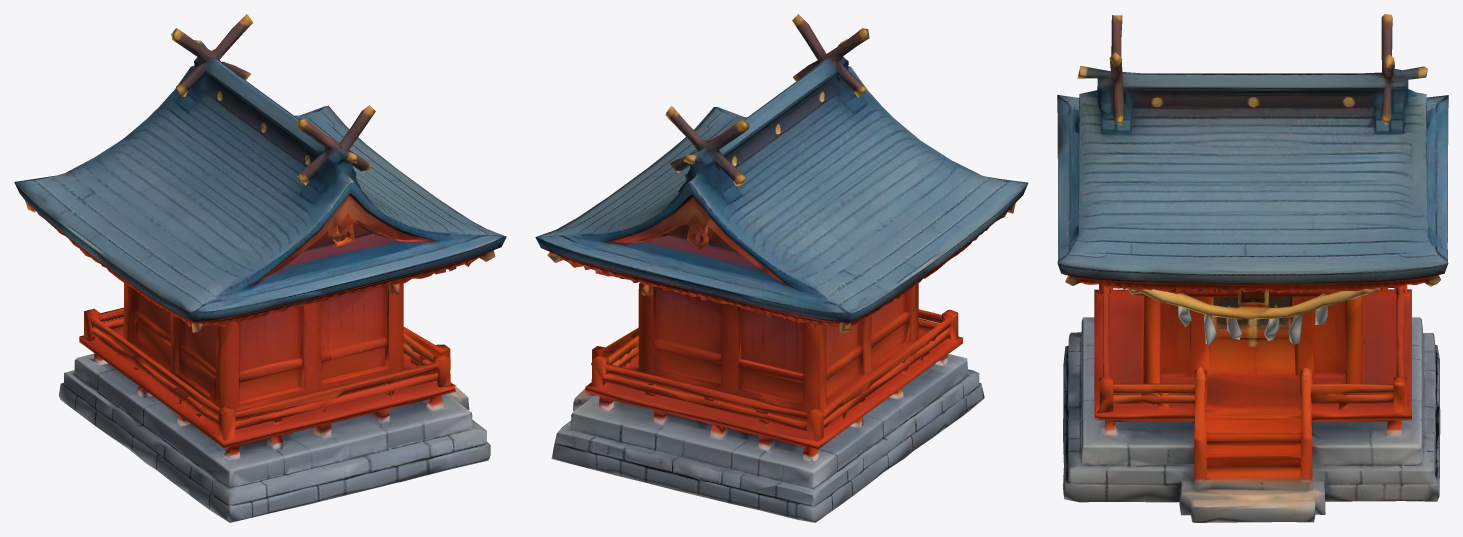
The model's file is shrine.glb.
The picture shows the model from 3 angles, left to right: view 1: azimuth 30°, elevation 25°; view 2: azimuth 150°, elevation 25°; view 3: azimuth 270°, elevation 25°; orthographic projection. The views are drawn at different scales.
Visible parts, largest first — view 1: tripo_node_f31cf0d9-cba2-4f1e-865b-58a3a91c10eb; view 2: tripo_node_f31cf0d9-cba2-4f1e-865b-58a3a91c10eb; view 3: tripo_node_f31cf0d9-cba2-4f1e-865b-58a3a91c10eb.
Boxes of the visible parts, left/top/right/bottom form: tripo_node_f31cf0d9-cba2-4f1e-865b-58a3a91c10eb: left=14, top=14, right=506, bottom=522; tripo_node_f31cf0d9-cba2-4f1e-865b-58a3a91c10eb: left=535, top=14, right=1028, bottom=522; tripo_node_f31cf0d9-cba2-4f1e-865b-58a3a91c10eb: left=1057, top=14, right=1448, bottom=522.
Bounding box in the file's own units: 0.972 × 0.9998 × 0.8859.
Materials: 1 (1 with a texture image).
